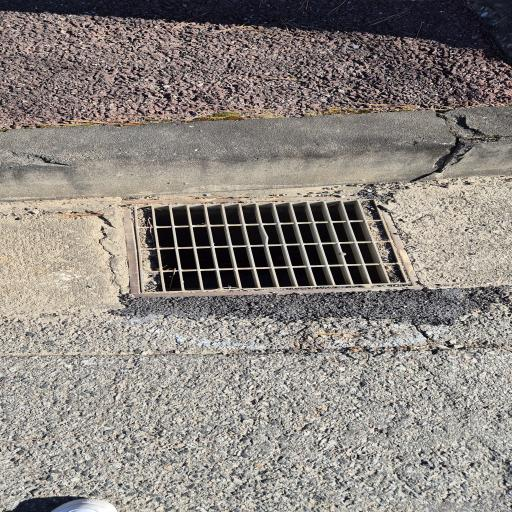drain: (125, 198, 415, 295)
